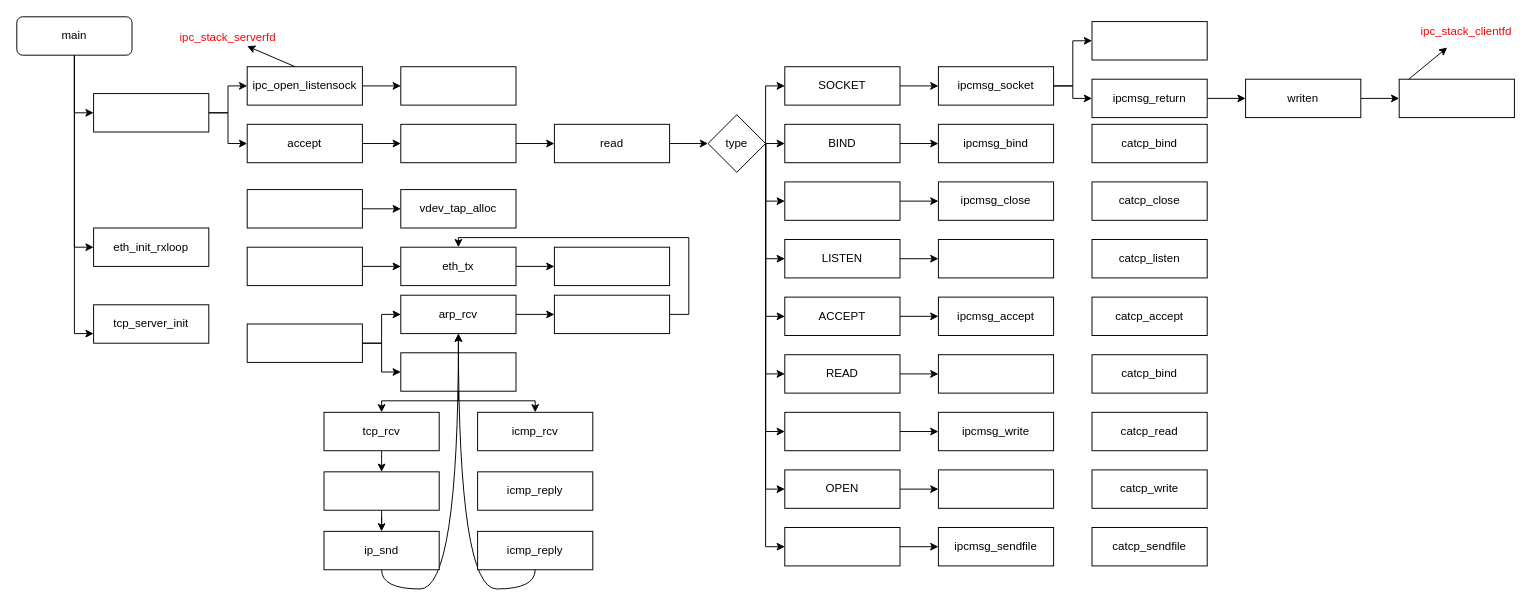
Some shapes in this 1531 by 606 pixel diagram are drawn without their labels. Here are the shapes that lost their labels. From the top down, the box of each, then its label:
(1091, 21, 1207, 60): catcp_socket
(400, 66, 516, 105): socket、bind、listen
(1398, 78, 1514, 118): ipc_call
(93, 93, 209, 132): ipc_init_server
(400, 123, 516, 163): ipc_process_request
(246, 189, 362, 228): dev_init
(784, 181, 900, 220): CLOSE
(246, 246, 362, 286): arp_request
(553, 246, 670, 286): dev_tx
(937, 239, 1054, 278): ipcmsg_listen
(553, 294, 670, 334): arp_reply
(246, 323, 362, 362): dev_rx
(400, 352, 516, 391): ip_rcv
(937, 354, 1054, 393): ipcmsg_read
(784, 411, 900, 451): WRITE
(323, 471, 439, 510): fast_rexmt
(937, 469, 1054, 508): ipcmsg_open
(784, 527, 900, 566): SENDFILE
